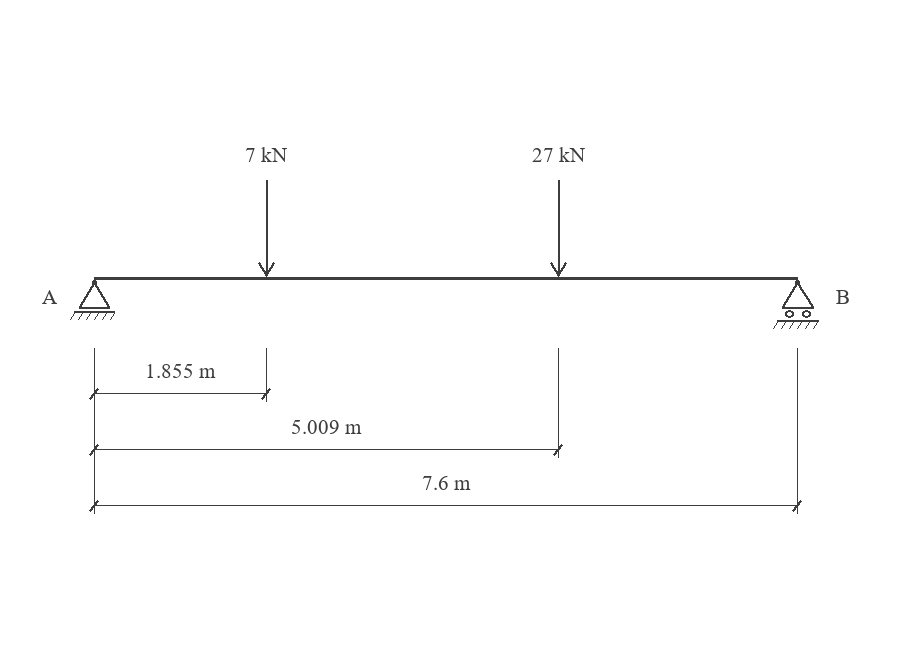pin_support: (70, 280, 115, 320)
point_load: (258, 180, 275, 277), (550, 180, 567, 277)
roller_support: (773, 280, 819, 329)
